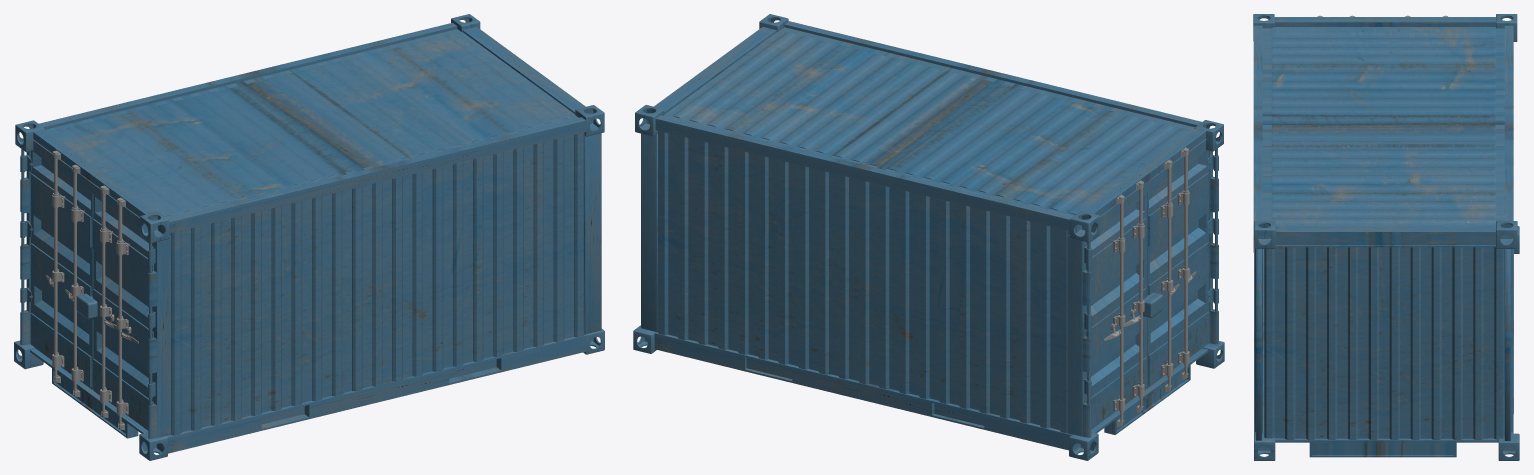
The model's file is container.glb.
3 views of the same model, side by side, from view 1: azimuth 30°, elevation 25°; view 2: azimuth 150°, elevation 25°; view 3: azimuth 270°, elevation 25° (orthographic). The views are drawn at different scales.
Visible parts, largest first — view 1: Cube.001_1, Cube_0, Cube.029_128, Cube.003_129, Cube.006_3, Cube.020_13, Cube.011_24, Cube.024_19, Cube.002_2, Cube.021_15, Cube.022_17, Cube.026_21 (+8 smaller); view 2: Cube.027_22, Cube_0, Cube.003_129, Cube.029_128, Cube.005_16, Cube.002_2, Cube.013_14, Cube.025_20, Cube.020_13, Cube.021_15, Cube.022_17, Cube.026_21 (+8 smaller); view 3: Cube_0, Cube.008_4, Cube.026_21, Cube.023_18, Cube.021_15, Cube.020_13, Cube.002_2, Cube.025_20, Cube.024_19, Cube.016_9, Cube.019_12, Cube.001_1 (+7 smaller).
Boxes of the visible parts, x1=… form: Cube.001_1: x1=170, y1=132, x2=584, y2=435; Cube_0: x1=45, y1=29, x2=578, y2=217; Cube.029_128: x1=30, y1=150, x2=93, y2=389; Cube.003_129: x1=93, y1=194, x2=154, y2=430; Cube.006_3: x1=166, y1=334, x2=586, y2=453; Cube.020_13: x1=168, y1=117, x2=586, y2=233; Cube.011_24: x1=148, y1=233, x2=170, y2=438; Cube.024_19: x1=584, y1=133, x2=601, y2=334; Cube.002_2: x1=39, y1=23, x2=457, y2=129; Cube.021_15: x1=32, y1=128, x2=156, y2=227; Cube.022_17: x1=30, y1=348, x2=148, y2=438; Cube.026_21: x1=462, y1=27, x2=585, y2=113; Cube.027_22: x1=658, y1=130, x2=1067, y2=433; Cube_0: x1=663, y1=27, x2=1194, y2=215; Cube.003_129: x1=1147, y1=150, x2=1209, y2=388; Cube.029_128: x1=1085, y1=193, x2=1146, y2=429; Cube.005_16: x1=654, y1=332, x2=1071, y2=450; Cube.002_2: x1=655, y1=115, x2=1073, y2=230; Cube.013_14: x1=1067, y1=230, x2=1091, y2=437; Cube.025_20: x1=641, y1=133, x2=657, y2=332; Cube.020_13: x1=784, y1=21, x2=1201, y2=127; Cube.021_15: x1=1083, y1=128, x2=1206, y2=226; Cube.022_17: x1=1091, y1=348, x2=1208, y2=434; Cube.026_21: x1=654, y1=27, x2=776, y2=113; Cube_0: x1=1262, y1=27, x2=1504, y2=225; Cube.008_4: x1=1264, y1=247, x2=1504, y2=439; Cube.026_21: x1=1275, y1=225, x2=1495, y2=247; Cube.023_18: x1=1275, y1=438, x2=1498, y2=457; Cube.021_15: x1=1274, y1=17, x2=1495, y2=27; Cube.020_13: x1=1253, y1=25, x2=1262, y2=234; Cube.002_2: x1=1504, y1=25, x2=1513, y2=220; Cube.025_20: x1=1504, y1=249, x2=1510, y2=440; Cube.024_19: x1=1256, y1=249, x2=1261, y2=440; Cube.016_9: x1=1496, y1=221, x2=1517, y2=248; Cube.019_12: x1=1254, y1=221, x2=1275, y2=248; Cube.001_1: x1=1254, y1=249, x2=1262, y2=432.
Bounding box in the file's own units: 11.71 × 5.83 × 6.07.
2 materials, 1 textured.
